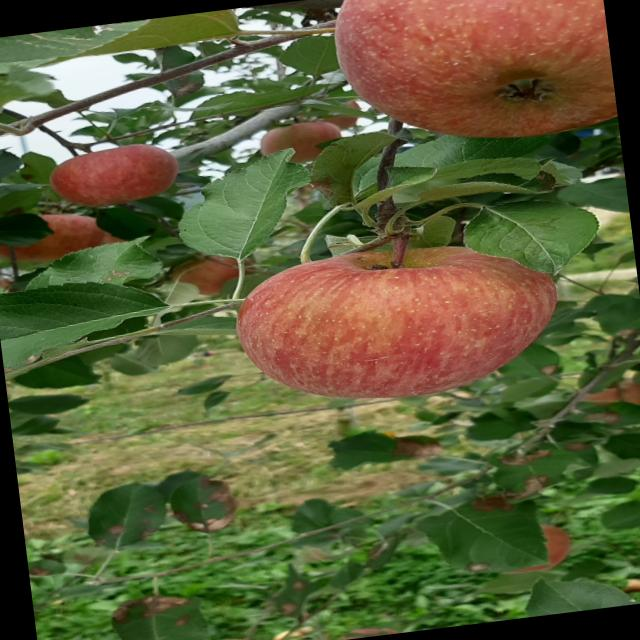fresh: (219, 224, 578, 423), (308, 1, 614, 172)
